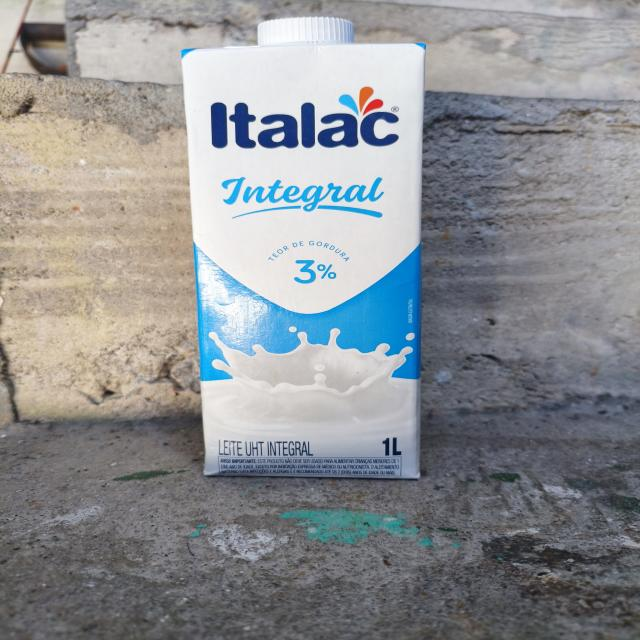Caixa de Leite: (168, 15, 439, 487)
